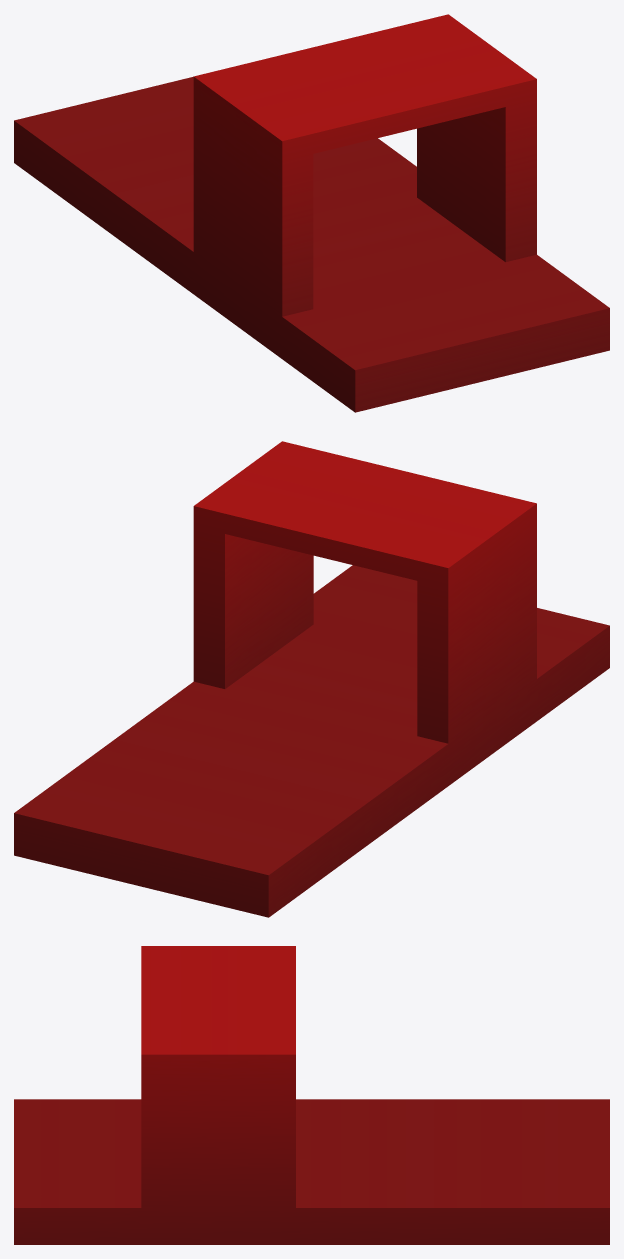
The model's file is sandal.fbx.
3 views of the same model, one above another, from view 1: azimuth 30°, elevation 25°; view 2: azimuth 150°, elevation 25°; view 3: azimuth 270°, elevation 25° (orthographic). The views are drawn at different scales.
Parts seen in each view (by area): view 1: sandal; view 2: sandal; view 3: sandal.
Part boxes in pixels (x1,y1,x2,y2): sandal: (14,14,609,412); sandal: (14,441,609,917); sandal: (14,946,609,1244).
Bounding box in the file's own units: 21.92 × 17.92 × 50.85.
Materials: 1 (1 with a texture image).
